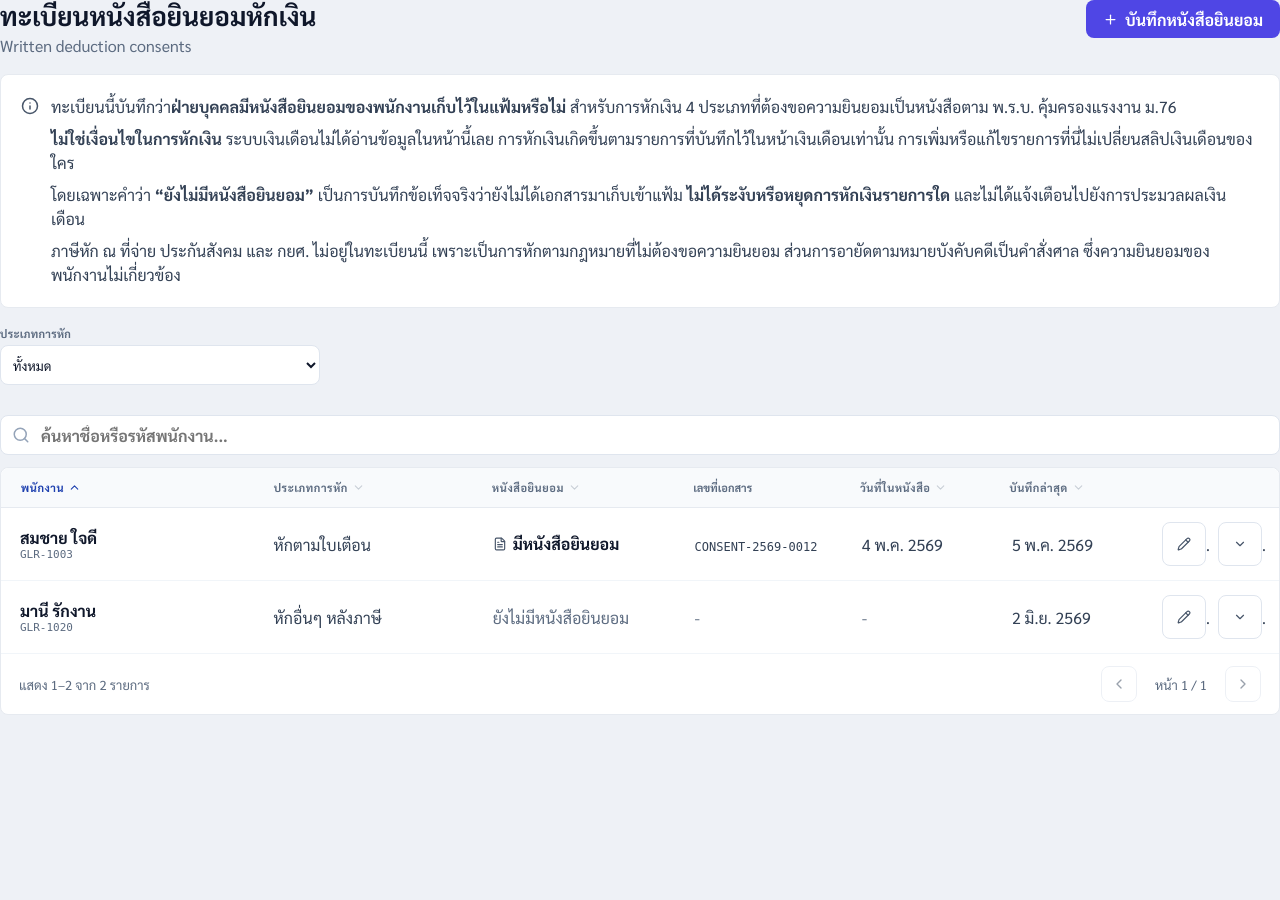
Test: DeductionConsentsPage › write affordances › locks employee and deduction kind when editing an existing row
Expected: the text "สมชาย ใจดี" is shown, [20,527,97,548]
Click the button named "แก้ไขบันทึกหนังสือยินยอมของ สมชาย ใจดี": coordinates (1184, 544) [1162,522,1206,566]
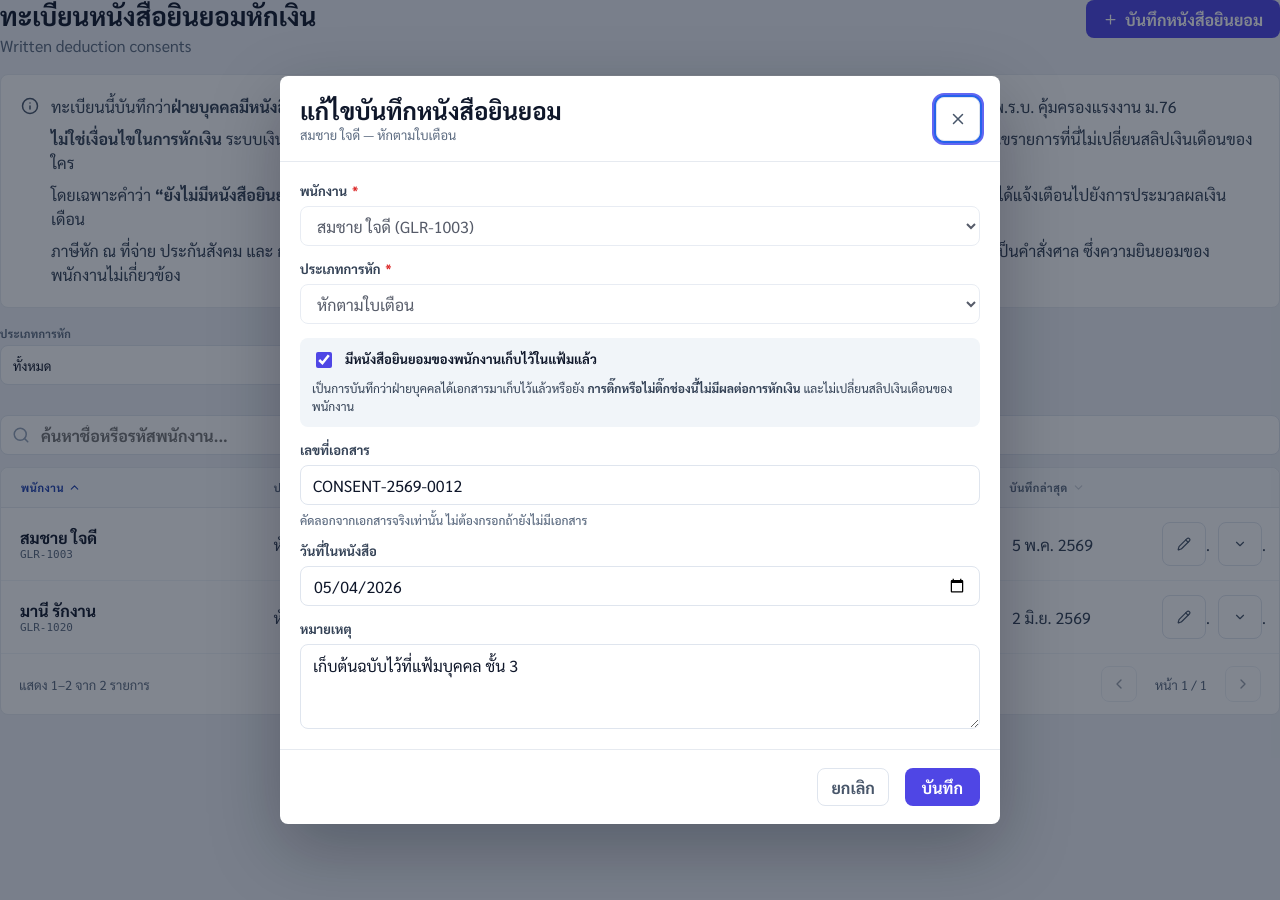
Expected: the dropdown labelled "พนักงาน" is disabled, [300,206,980,246]
Expected: the dropdown labelled "ประเภทการหัก" is disabled, [300,284,980,324]
Expected: the field labelled "เลขที่เอกสาร" holds "CONSENT-2569-0012", [300,465,980,505]
